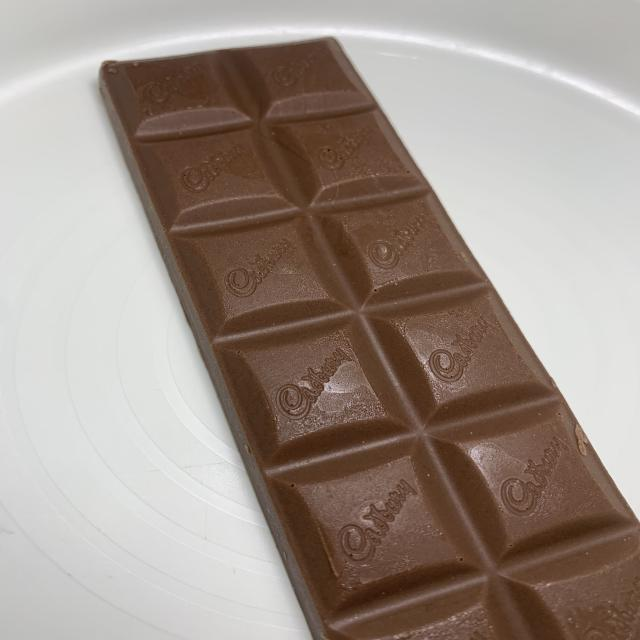Chocolate: (95, 33, 640, 640)
